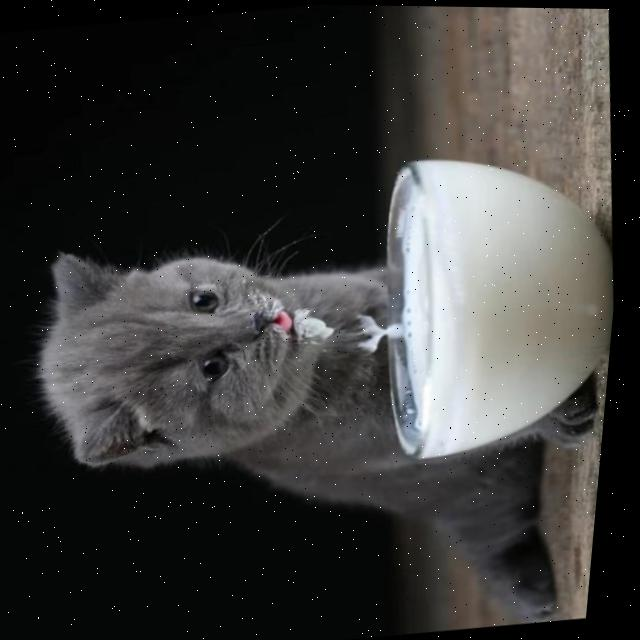Cats: (19, 220, 418, 545)
